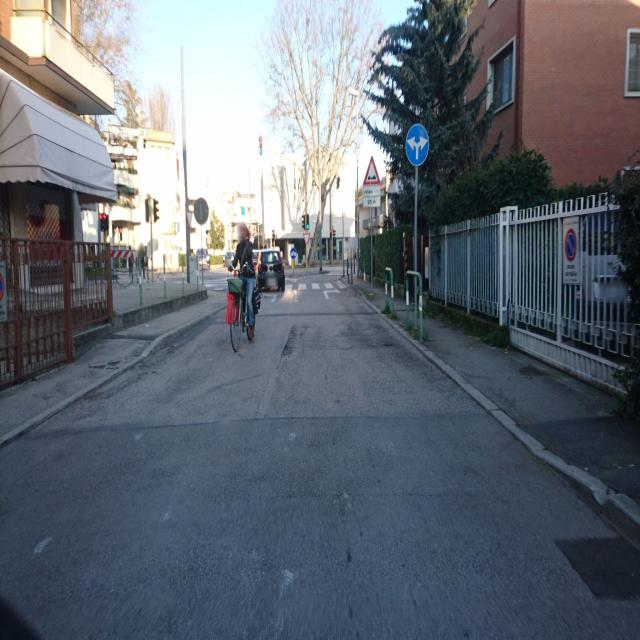bike: (225, 260, 262, 354)
car: (256, 248, 286, 293)
